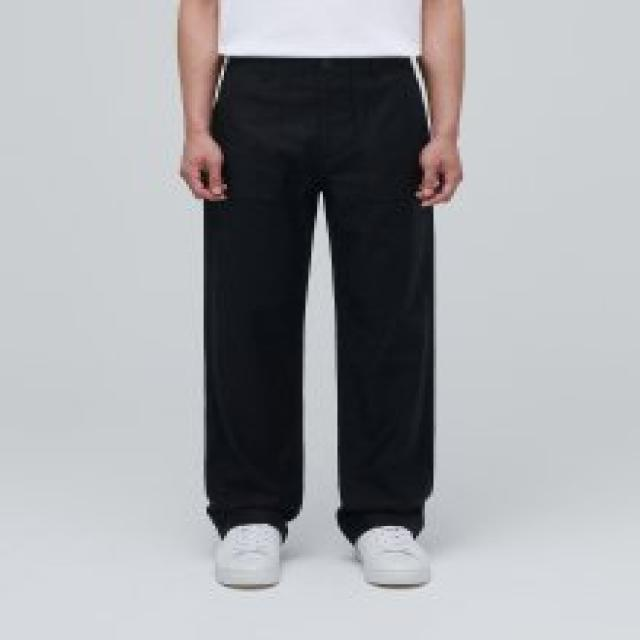long-pants: (199, 53, 438, 545)
